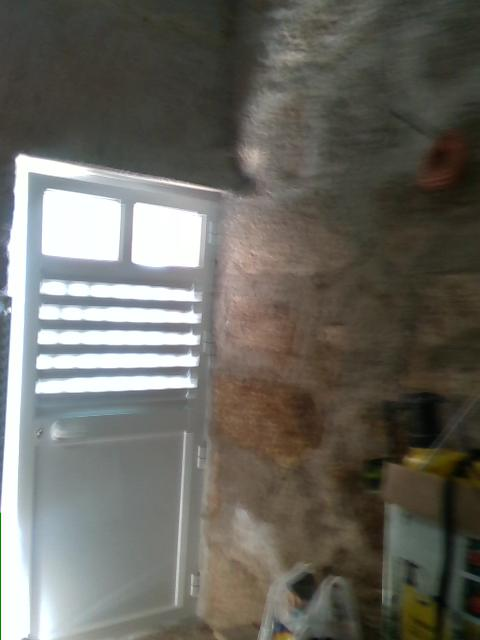door: (3, 171, 221, 639)
